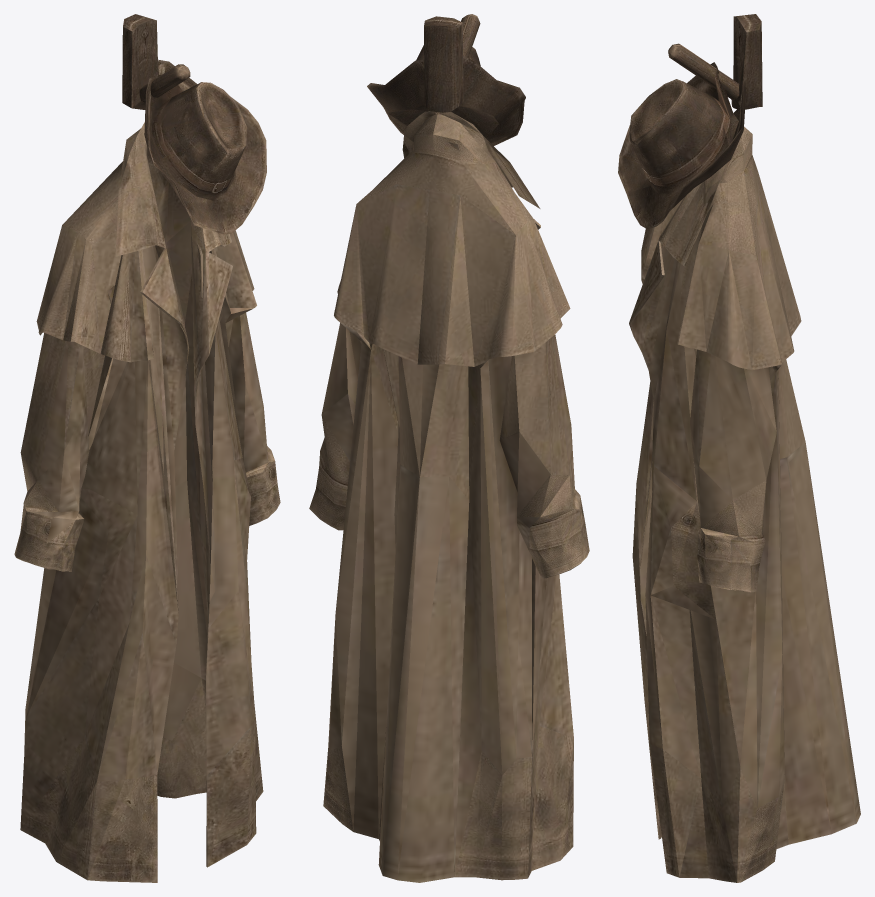
Rendered from coat-hanging.glb.
The picture shows the model from 3 angles, left to right: view 1: azimuth 30°, elevation 25°; view 2: azimuth 150°, elevation 25°; view 3: azimuth 270°, elevation 25°; orthographic projection. The views are drawn at different scales.
Visible parts, largest first — view 1: GLTF; view 2: GLTF; view 3: GLTF.
Boxes of the visible parts, <box> form: GLTF: <box>14,14,280,882</box>; GLTF: <box>309,14,589,882</box>; GLTF: <box>618,14,860,882</box>.
Bounding box in the file's own units: 0.2808 × 0.8561 × 0.2259.
1 material, 1 textured.
